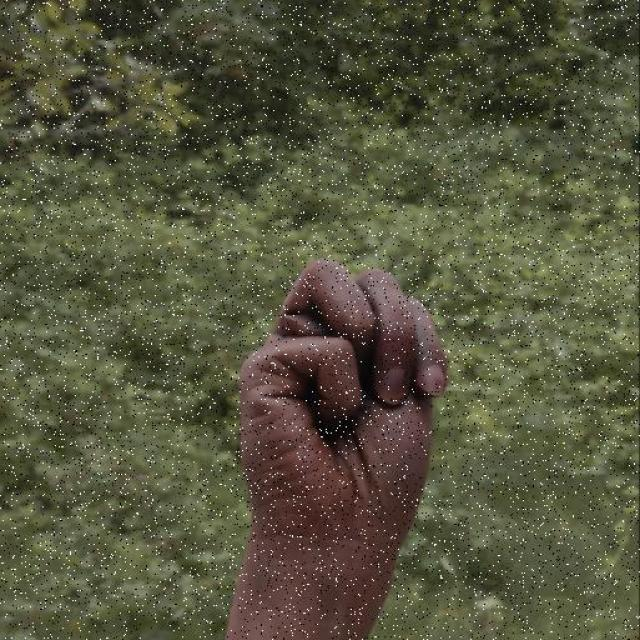M: (236, 254, 455, 551)
